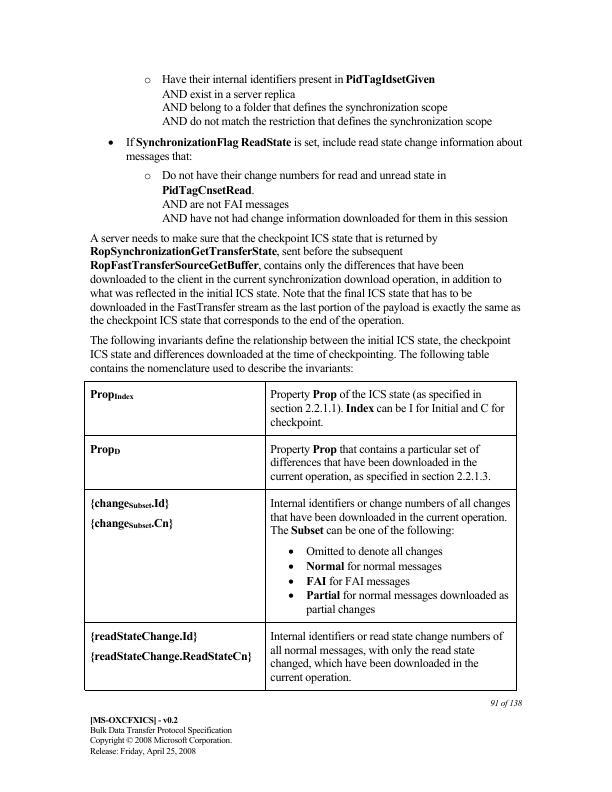table: (81, 379, 520, 692)
text: (86, 232, 525, 327), (159, 167, 510, 226), (159, 72, 494, 129), (87, 333, 513, 373), (123, 134, 523, 165), (86, 714, 234, 755), (484, 696, 524, 709)
